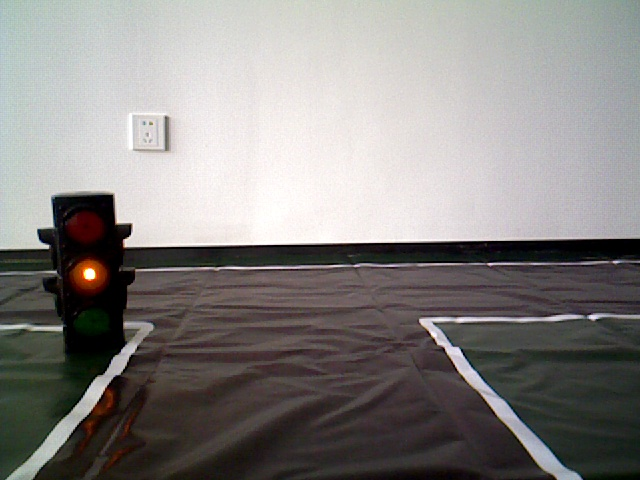yellow: (51, 196, 129, 349)
